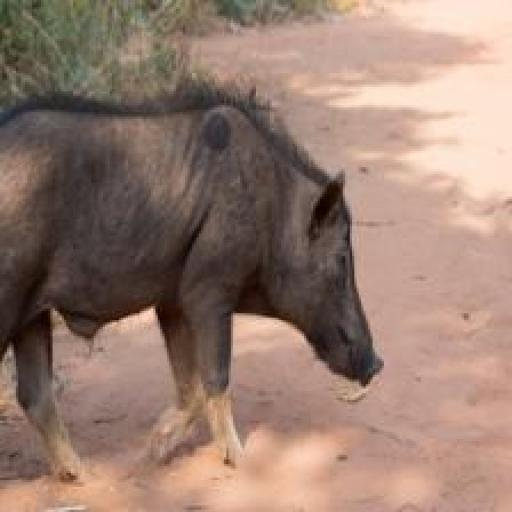Pig: (0, 85, 391, 498)
